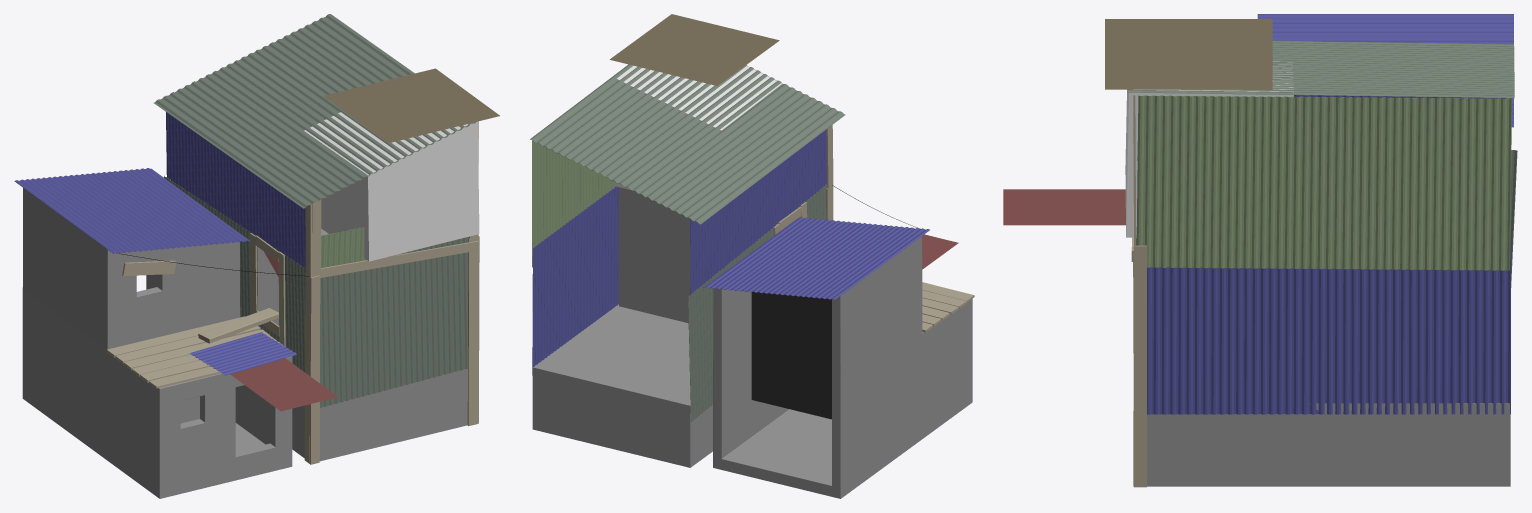
File: Slum.glb
The picture shows the model from 3 angles, left to right: view 1: azimuth 30°, elevation 25°; view 2: azimuth 150°, elevation 25°; view 3: azimuth 270°, elevation 25°; orthographic projection. The views are drawn at different scales.
Parts seen in each view (by area): view 1: Cube, Cube.024, Cube.001, Cube.027, Cube.007, Cube.002, Cube.023, Plane.003, Cube.006, Cube.003, Plane, Cube.008 (+11 smaller); view 2: Cube, Cube.024, Cube.002, Cube.007, Cube.009, Plane.004, Cube.023, Plane.001, Plane.003, Cube.019, Cube.003, Cube.027 (+2 smaller); view 3: Cube.019, Cube.009, Cube.002, Cube.024, Plane.003, Cube.007, Plane, Cube.018, Cube.027.
Part boxes in pixels (<box>): Cube: <box>22,188,292,498</box>; Cube.024: <box>154,14,475,208</box>; Cube.001: <box>320,237,468,407</box>; Cube.027: <box>304,112,479,261</box>; Cube.007: <box>14,168,250,253</box>; Cube.002: <box>292,368,467,461</box>; Cube.023: <box>166,112,305,268</box>; Plane.003: <box>323,68,499,143</box>; Cube.006: <box>106,316,294,388</box>; Cube.003: <box>164,176,305,372</box>; Plane: <box>230,358,338,411</box>; Cube.008: <box>189,332,296,375</box>; Cube: <box>713,236,972,498</box>; Cube.024: <box>530,64,845,224</box>; Cube.002: <box>532,304,712,467</box>; Cube.007: <box>703,217,929,299</box>; Cube.009: <box>532,186,618,375</box>; Plane.004: <box>751,291,831,419</box>; Cube.023: <box>690,130,826,294</box>; Plane.001: <box>619,187,776,323</box>; Plane.003: <box>609,14,779,85</box>; Cube.019: <box>532,140,615,267</box>; Cube.003: <box>688,184,826,421</box>; Cube.027: <box>615,65,782,189</box>; Cube.019: <box>1136,95,1511,270</box>; Cube.009: <box>1147,242,1511,414</box>; Cube.002: <box>1147,403,1510,486</box>; Cube.024: <box>1127,40,1514,98</box>; Plane.003: <box>1105,19,1272,89</box>; Cube.007: <box>1257,14,1513,127</box>; Plane: <box>1003,189,1125,225</box>; Cube.018: <box>1133,245,1146,487</box>; Cube.027: <box>1125,61,1293,237</box>.
Bounding box in the file's own units: 5.96 × 5.64 × 6.24.
